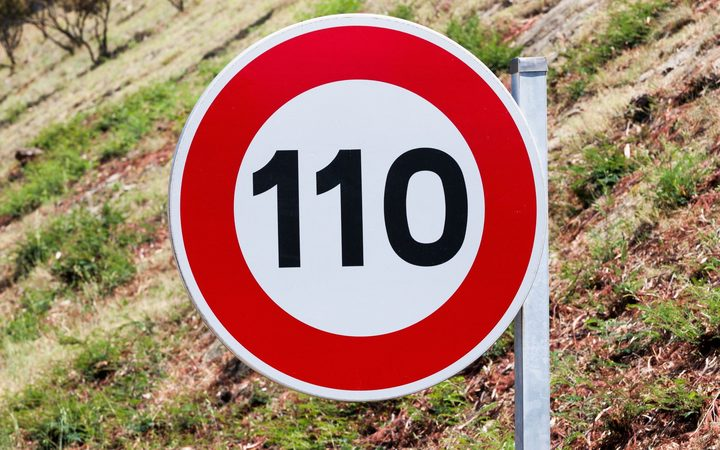Speed_limit_110km: (170, 13, 544, 404)
